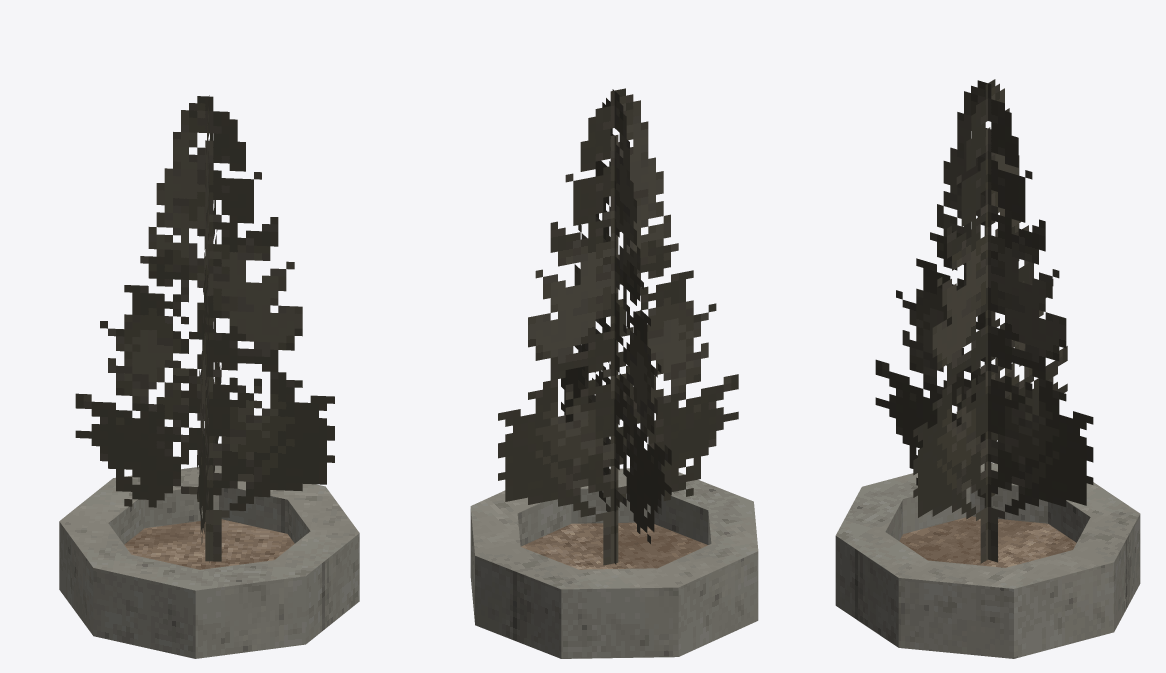
The model's file is procgen-procpain-tree-park-pine-large-x0z0.obj.
The picture shows the model from 3 angles, left to right: view 1: azimuth 30°, elevation 25°; view 2: azimuth 150°, elevation 25°; view 3: azimuth 270°, elevation 25°; orthographic projection. The views are drawn at different scales.
Size of the model in its own units: 6.25 by 10.75 by 6.25.
